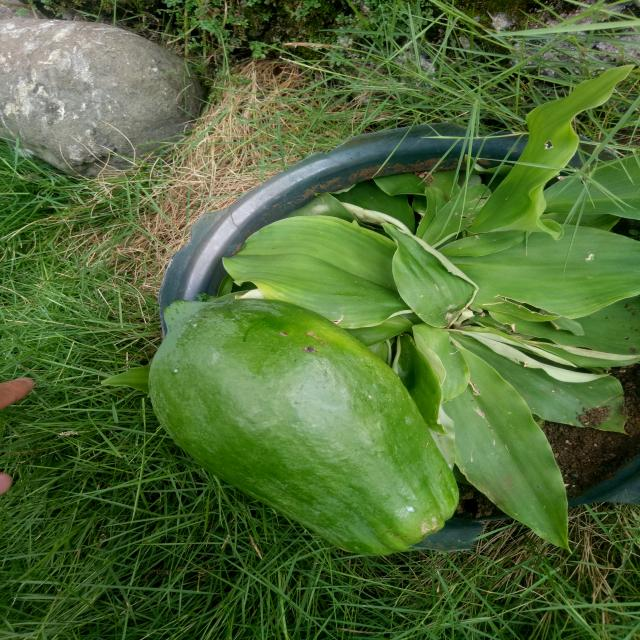Pepaya unrippen: (137, 298, 467, 559)
